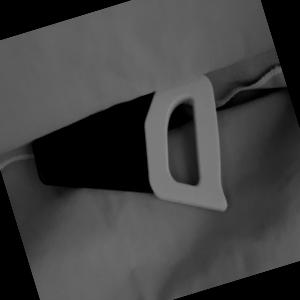serrote: (23, 70, 248, 260)
